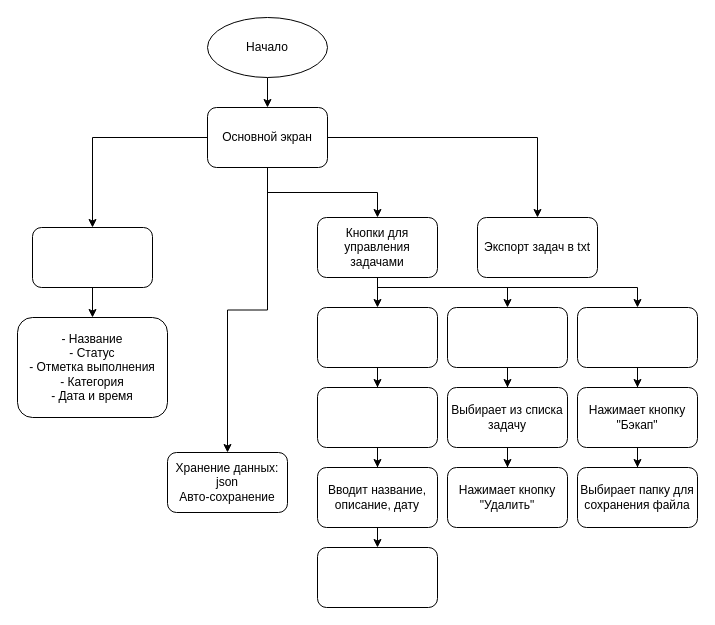
The diagram is 715 pixels wide and 625 high, and some of its shapes have lost their labels. Here are the shapes that lost their labels. From the top down, the centre of each, then its label:
point (92, 257): Список задач
point (377, 337): Добавление задачи
point (507, 337): Удаление задачи
point (637, 337): Резервное копирование
point (377, 417): Нажимает кнопку "Добавить"
point (377, 577): Нажимает кнопку "Сохранить"
